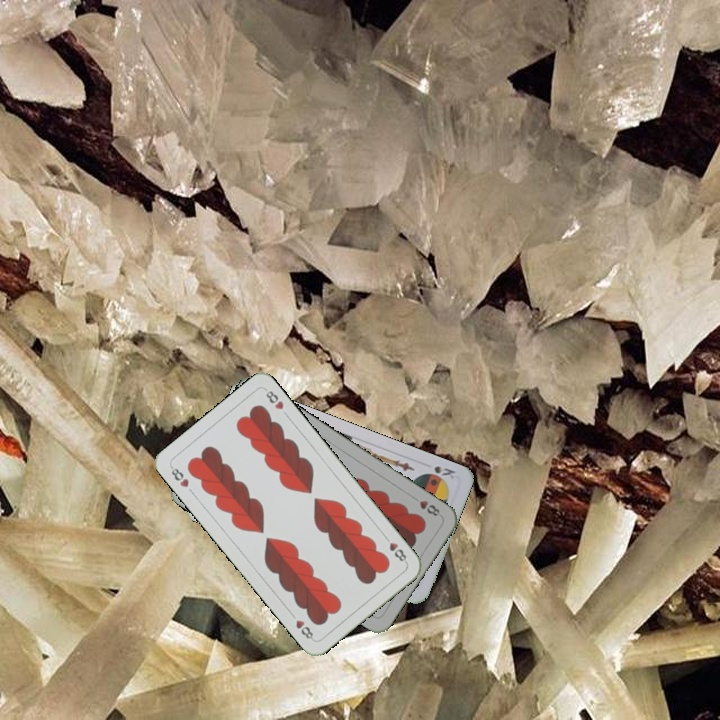H8: (380, 531, 410, 566), (166, 462, 192, 490), (415, 496, 443, 519)
SK: (430, 462, 458, 482)
